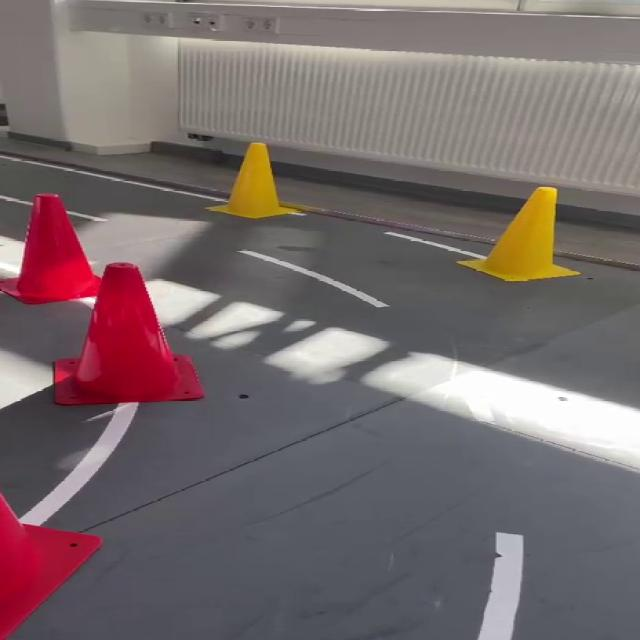Cone-red: (54, 263, 203, 404), (0, 492, 101, 639), (0, 194, 99, 304)
Cones-yellow: (459, 188, 579, 281), (206, 143, 308, 218)
